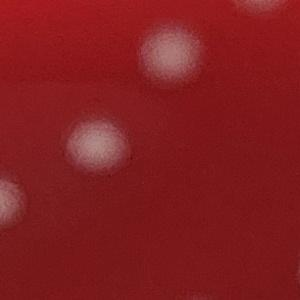colony: (134, 27, 212, 96), (57, 116, 138, 181), (0, 175, 33, 233), (224, 0, 293, 20)
